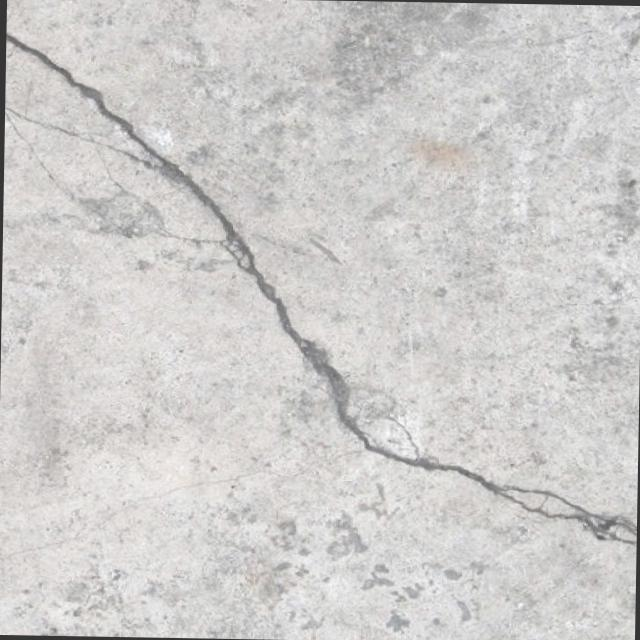crack: (1, 31, 361, 380), (301, 380, 638, 547), (0, 445, 296, 568)
